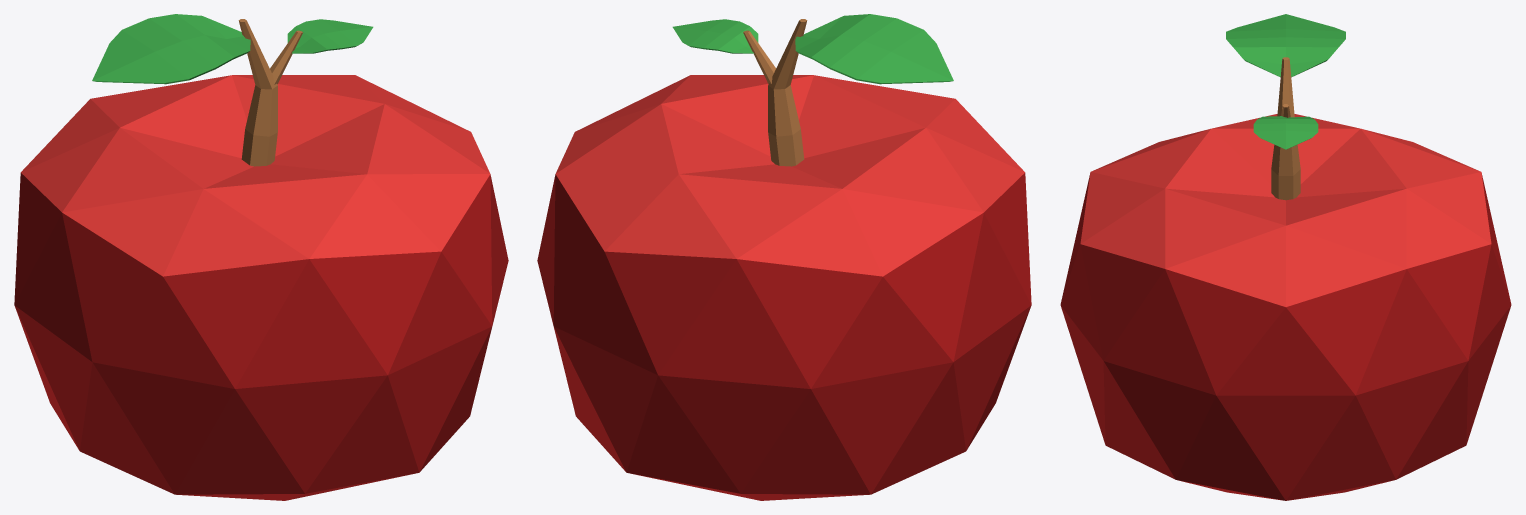
File: APPLE.fbx
3 views of the same model, side by side, from view 1: azimuth 30°, elevation 25°; view 2: azimuth 150°, elevation 25°; view 3: azimuth 270°, elevation 25° (orthographic). The views are drawn at different scales.
Visible parts, largest first — view 1: Icosphere; view 2: Icosphere; view 3: Icosphere.
Boxes of the visible parts, x1=… form: Icosphere: x1=14, y1=14, x2=508, y2=500; Icosphere: x1=537, y1=14, x2=1031, y2=500; Icosphere: x1=1060, y1=14, x2=1511, y2=500.
Bounding box in the file's own units: 310 × 311 × 325.
